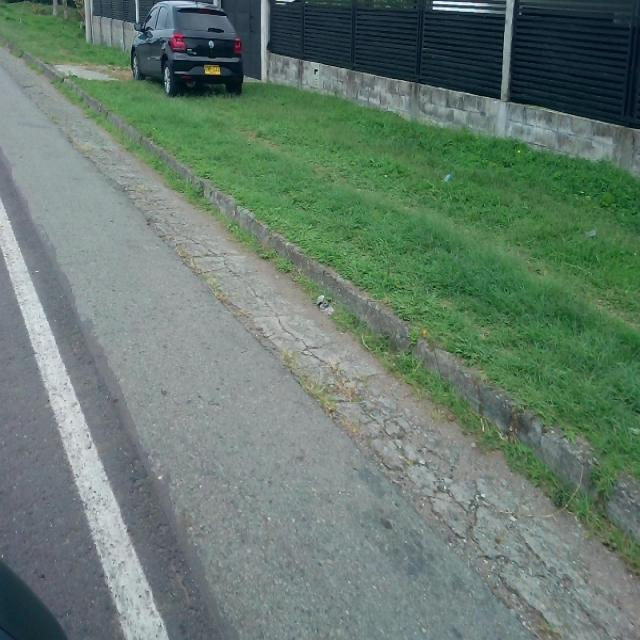DITCH: (2, 41, 638, 638)
